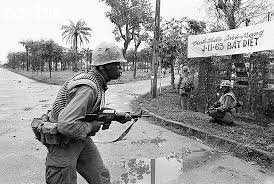gun: (77, 107, 152, 132)
